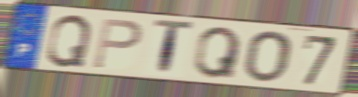7: (301, 33, 339, 87)
O: (242, 30, 294, 84)
P: (91, 16, 144, 71)
Q: (193, 25, 244, 80), (44, 13, 94, 69)
T: (152, 18, 197, 79)
